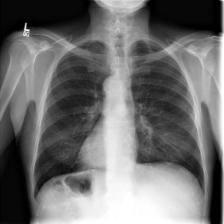normal: (30, 35, 210, 201)
